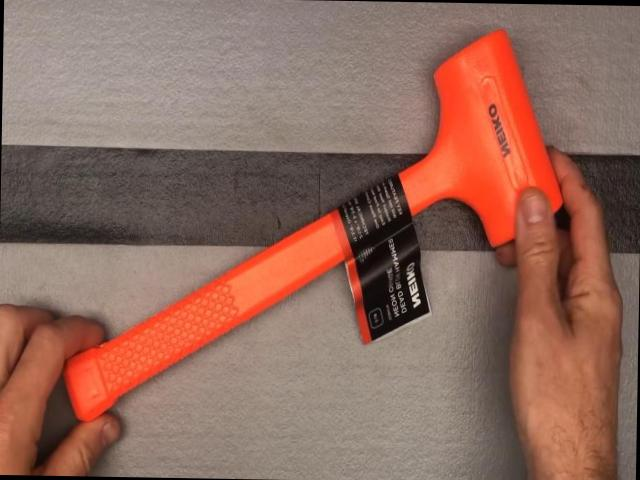hammer: (64, 21, 568, 428)
